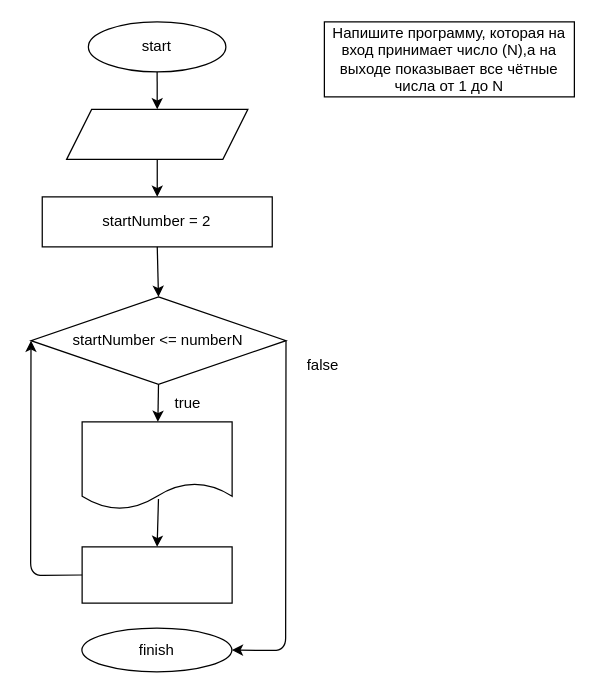
This 596x694 diagram has some shape labels left out. Each missing label, with the centre of its shape:
"input numberN" goes at point (156, 133).
"output startNumber" goes at point (156, 465).
"startNumber += 2" goes at point (156, 574).
